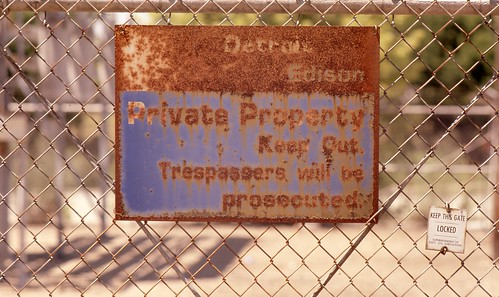sign: (97, 21, 396, 227)
